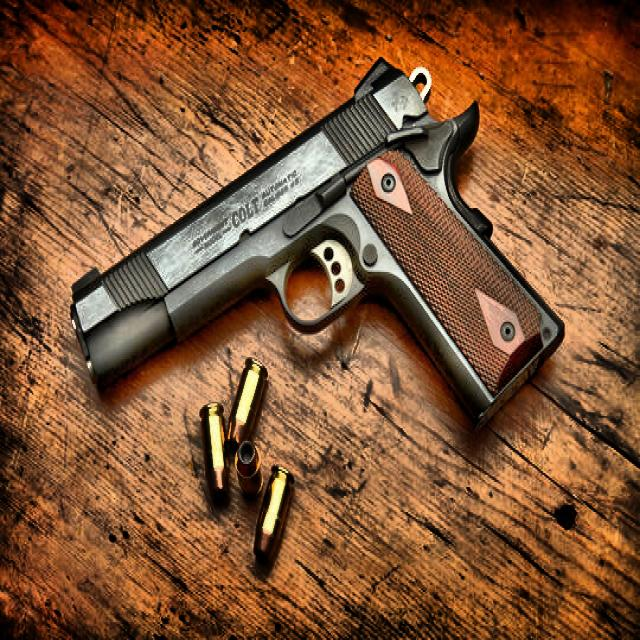Colt m1911: (69, 55, 565, 434)
